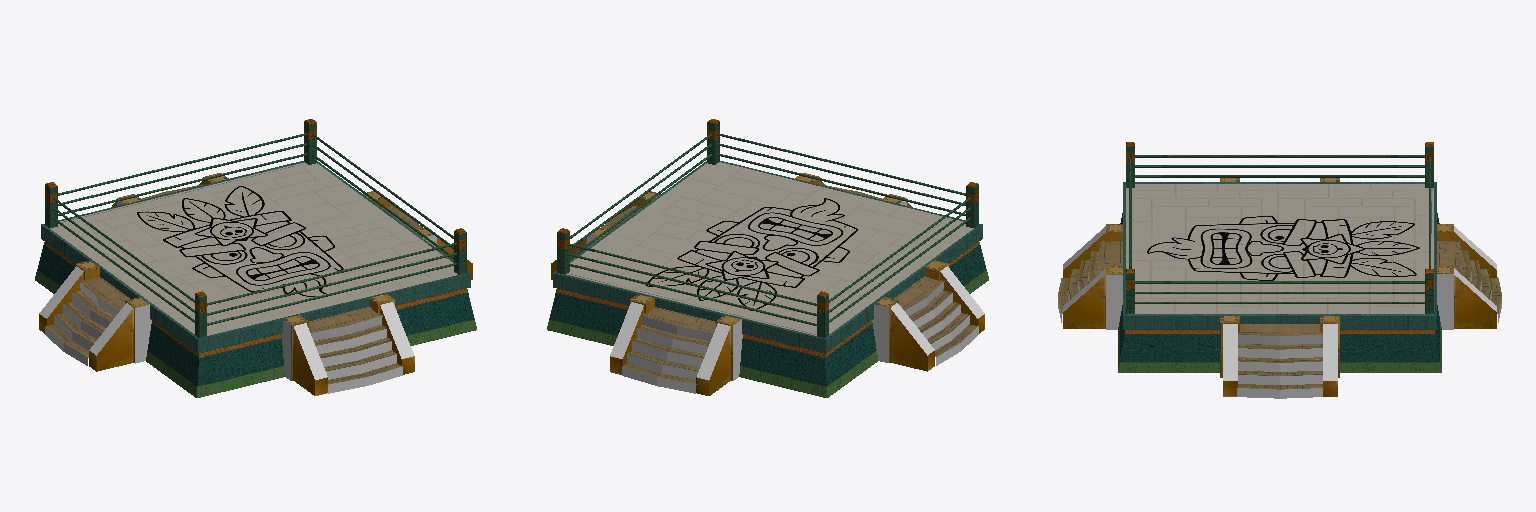
3 views of the same model, side by side, from view 1: azimuth 30°, elevation 25°; view 2: azimuth 150°, elevation 25°; view 3: azimuth 270°, elevation 25° (orthographic).
Visible parts, largest first — view 1: 4_Piso_4_Piso, 4_Piso_3_Azulmarino_Ladrillos_espiral, off, 4_Piso_1_AzulMarino_base, defaultMaterial.001_8_Escaleras_Frontal, defaultMaterial.003_8_Escaleras_Frontal, 4_Piso_0_Verde_base, defaultMaterial.001_6_Escaleras_Superior, defaultMaterial.003_6_Escaleras_Superior, defaultMaterial.003_7_Escaleras_Material, defaultMaterial.001_7_Escaleras_Material, 4_Piso_2_Naranja_franjas (+3 smaller); view 2: 4_Piso_4_Piso, 4_Piso_3_Azulmarino_Ladrillos_espiral, off, 4_Piso_1_AzulMarino_base, defaultMaterial_8_Escaleras_Frontal, defaultMaterial.003_8_Escaleras_Frontal, 4_Piso_0_Verde_base, defaultMaterial_6_Escaleras_Superior, defaultMaterial.003_6_Escaleras_Superior, defaultMaterial.003_7_Escaleras_Material, defaultMaterial_7_Escaleras_Material, 4_Piso_2_Naranja_franjas (+3 smaller); view 3: 4_Piso_4_Piso, 4_Piso_3_Azulmarino_Ladrillos_espiral, defaultMaterial.002_8_Escaleras_Frontal, 4_Piso_1_AzulMarino_base, off, defaultMaterial.002_6_Escaleras_Superior, 4_Piso_0_Verde_base, defaultMaterial_7_Escaleras_Material, defaultMaterial.001_7_Escaleras_Material, defaultMaterial.001_6_Escaleras_Superior, defaultMaterial_6_Escaleras_Superior, defaultMaterial_8_Escaleras_Frontal (+3 smaller).
Part boxes in pixels (left/top/right/bottom): 4_Piso_4_Piso: left=50, top=162, right=457, bottom=335; 4_Piso_3_Azulmarino_Ladrillos_espiral: left=37, top=245, right=474, bottom=386; off: left=53, top=133, right=456, bottom=325; 4_Piso_1_AzulMarino_base: left=41, top=161, right=470, bottom=353; defaultMaterial.001_8_Escaleras_Frontal: left=282, top=302, right=413, bottom=393; defaultMaterial.003_8_Escaleras_Frontal: left=39, top=266, right=151, bottom=365; 4_Piso_0_Verde_base: left=35, top=270, right=476, bottom=397; defaultMaterial.001_6_Escaleras_Superior: left=283, top=294, right=402, bottom=384; defaultMaterial.003_6_Escaleras_Superior: left=46, top=260, right=148, bottom=357; defaultMaterial.003_7_Escaleras_Material: left=39, top=264, right=134, bottom=371; defaultMaterial.001_7_Escaleras_Material: left=291, top=299, right=414, bottom=395; 4_Piso_2_Naranja_franjas: left=44, top=242, right=467, bottom=357; 4_Piso_4_Piso: left=566, top=162, right=973, bottom=335; 4_Piso_3_Azulmarino_Ladrillos_espiral: left=549, top=245, right=986, bottom=386; off: left=567, top=133, right=970, bottom=325; 4_Piso_1_AzulMarino_base: left=553, top=161, right=982, bottom=353; defaultMaterial_8_Escaleras_Frontal: left=610, top=302, right=742, bottom=393; defaultMaterial.003_8_Escaleras_Frontal: left=872, top=266, right=984, bottom=365; 4_Piso_0_Verde_base: left=547, top=270, right=988, bottom=397; defaultMaterial_6_Escaleras_Superior: left=622, top=294, right=740, bottom=384; defaultMaterial.003_6_Escaleras_Superior: left=875, top=260, right=977, bottom=356; defaultMaterial.003_7_Escaleras_Material: left=889, top=264, right=984, bottom=371; defaultMaterial_7_Escaleras_Material: left=610, top=298, right=732, bottom=395; 4_Piso_2_Naranja_franjas: left=556, top=242, right=979, bottom=357; 4_Piso_4_Piso: left=1126, top=184, right=1433, bottom=313; 4_Piso_3_Azulmarino_Ladrillos_espiral: left=1120, top=213, right=1439, bottom=361; defaultMaterial.002_8_Escaleras_Frontal: left=1223, top=324, right=1337, bottom=398; 4_Piso_1_AzulMarino_base: left=1123, top=182, right=1436, bottom=329; off: left=1129, top=155, right=1430, bottom=303; defaultMaterial.002_6_Escaleras_Superior: left=1220, top=316, right=1339, bottom=389; 4_Piso_0_Verde_base: left=1118, top=322, right=1441, bottom=372; defaultMaterial_7_Escaleras_Material: left=1437, top=232, right=1496, bottom=328; defaultMaterial.001_7_Escaleras_Material: left=1063, top=232, right=1122, bottom=328; defaultMaterial.001_6_Escaleras_Superior: left=1058, top=224, right=1122, bottom=313; defaultMaterial_6_Escaleras_Superior: left=1437, top=224, right=1501, bottom=313; defaultMaterial_8_Escaleras_Frontal: left=1437, top=226, right=1501, bottom=329.
Size of the model in its own units: 14.4 by 3.5 by 14.4.
Materials: 10 (8 with a texture image).